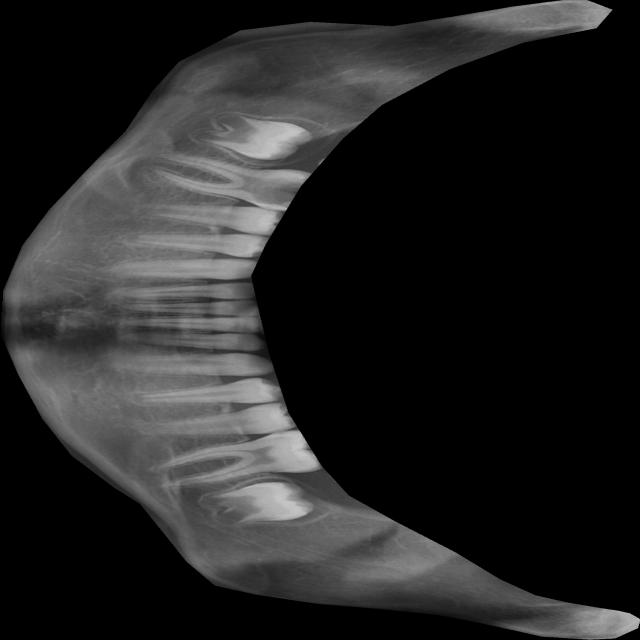mandibula: (0, 0, 640, 640)
